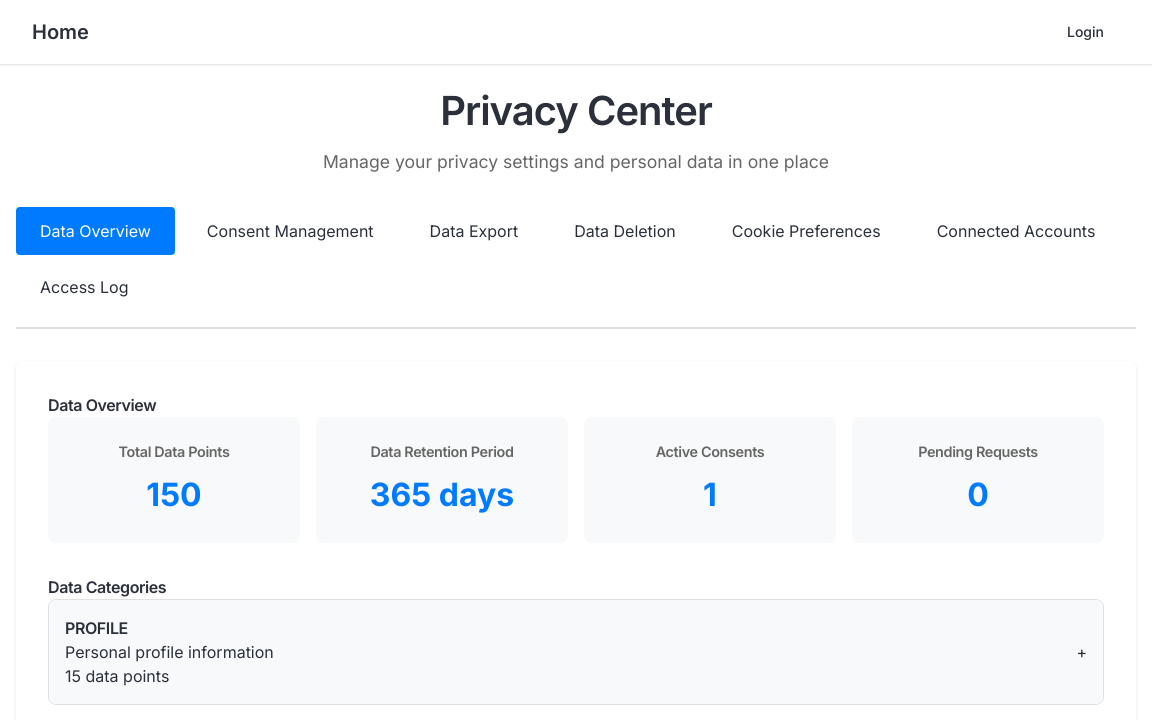
Test: PrivacyCenter Page › Cookie Preferences › should display cookie preferences
Switch to Cookie Preferences tab
Click the button "Cookie Preferences". click: click(806, 231)
box: [708, 207, 905, 255]
(page scrolled)
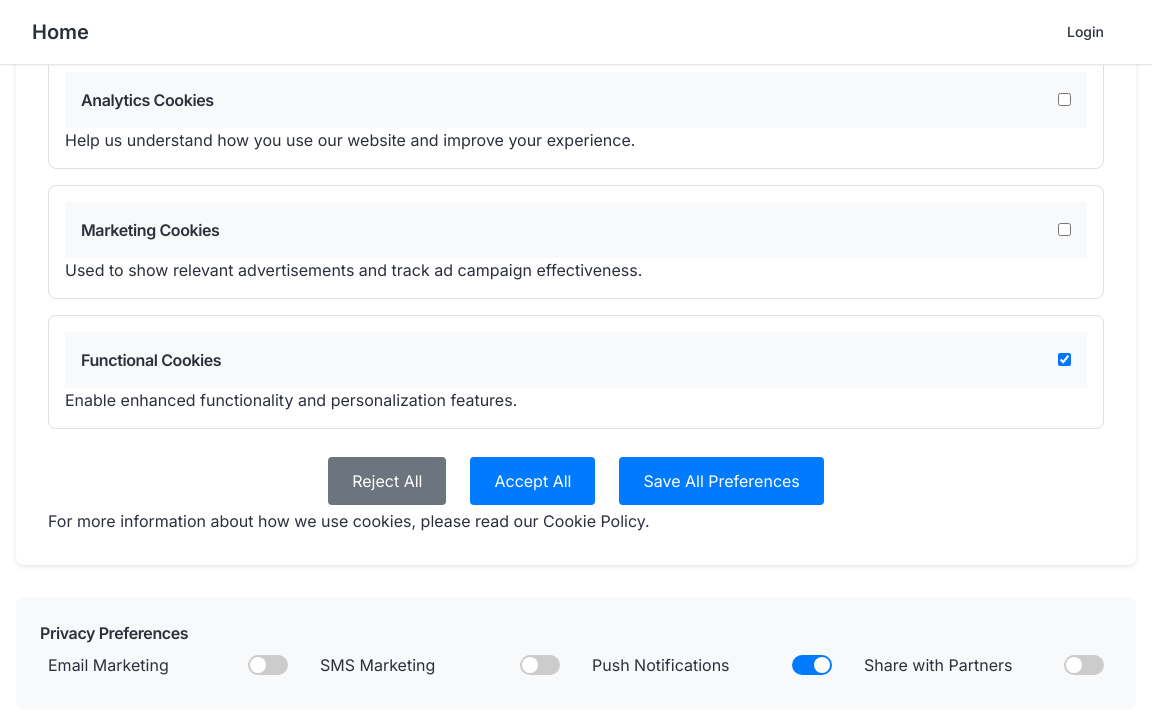
Expected: the heading "Analytics Cookies" is shown, [81, 88, 214, 112]
Expected: the heading "Marketing Cookies" is shown, [81, 218, 220, 242]
Expected: the heading "Functional Cookies" is shown, [81, 348, 221, 372]
